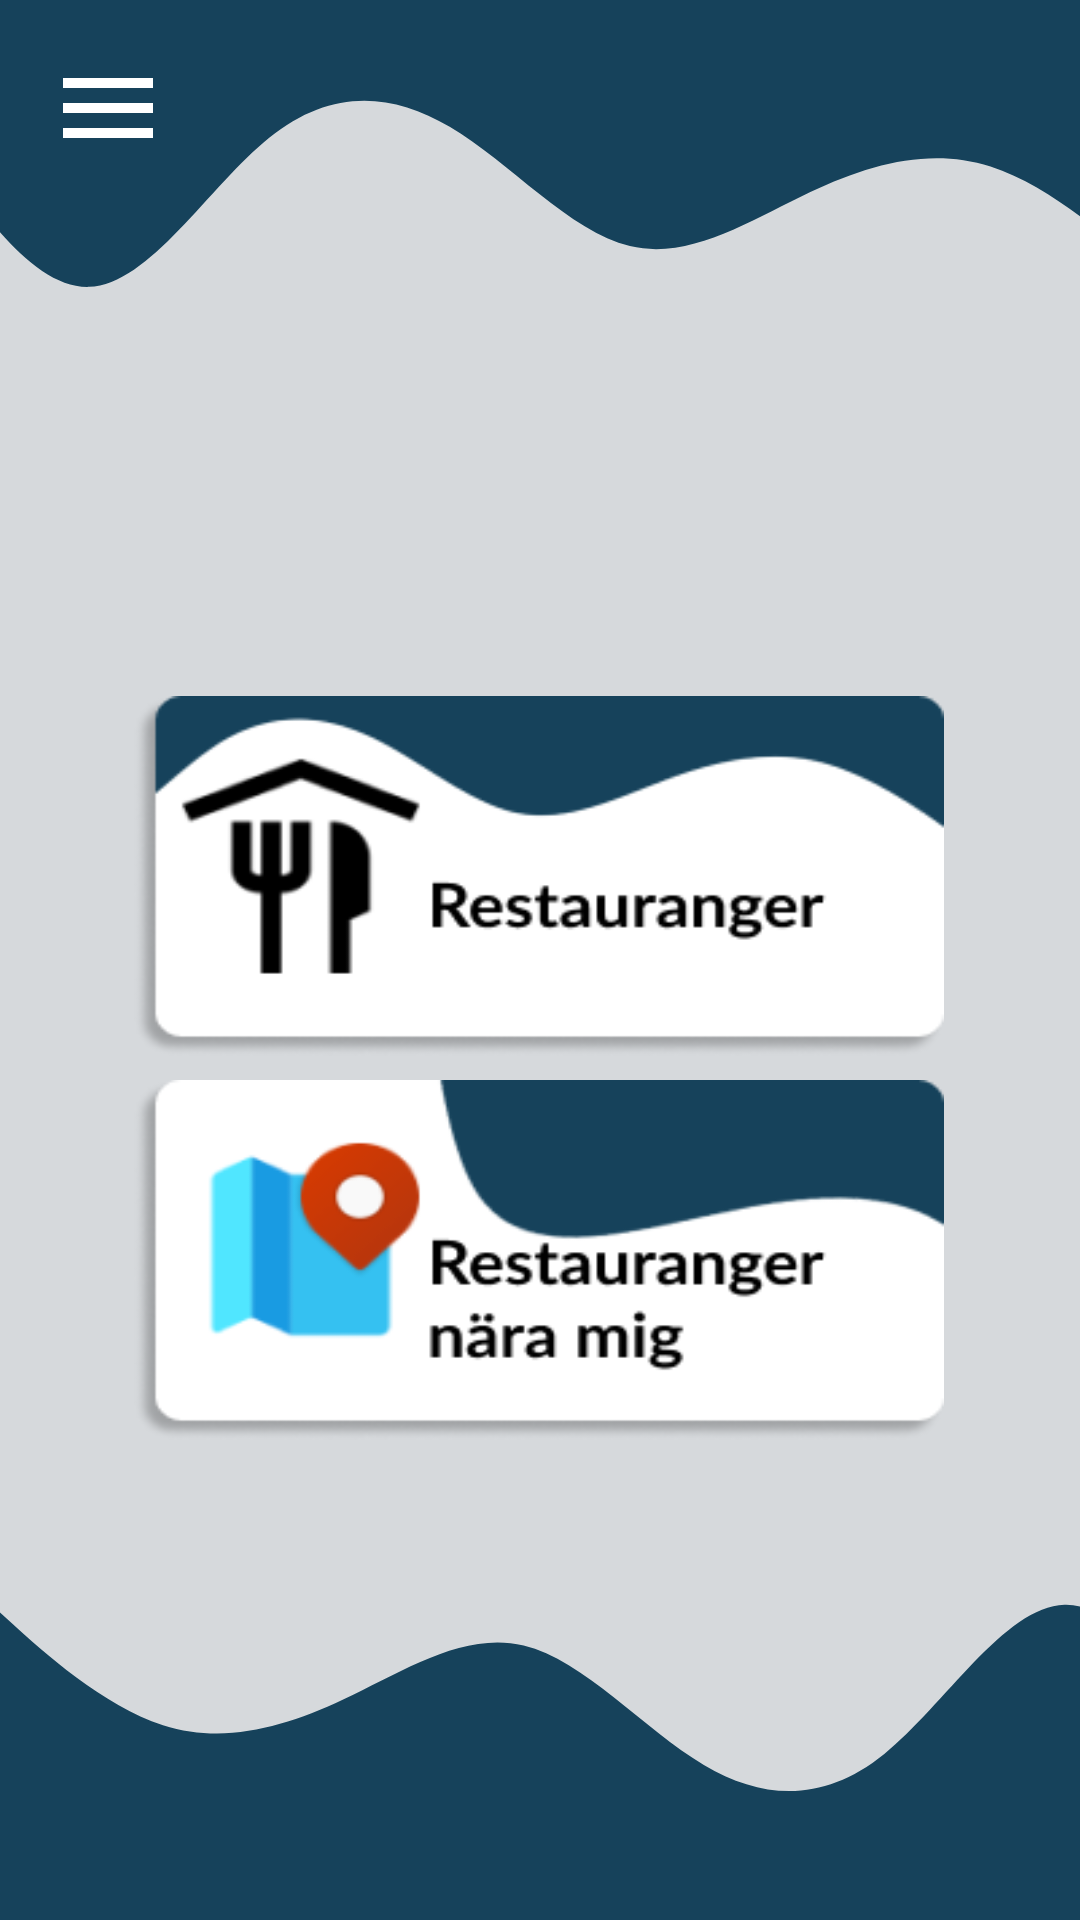

Where to tap for icons on this 1080×1920 app screen, as (x,y):
menu: (108,108)
